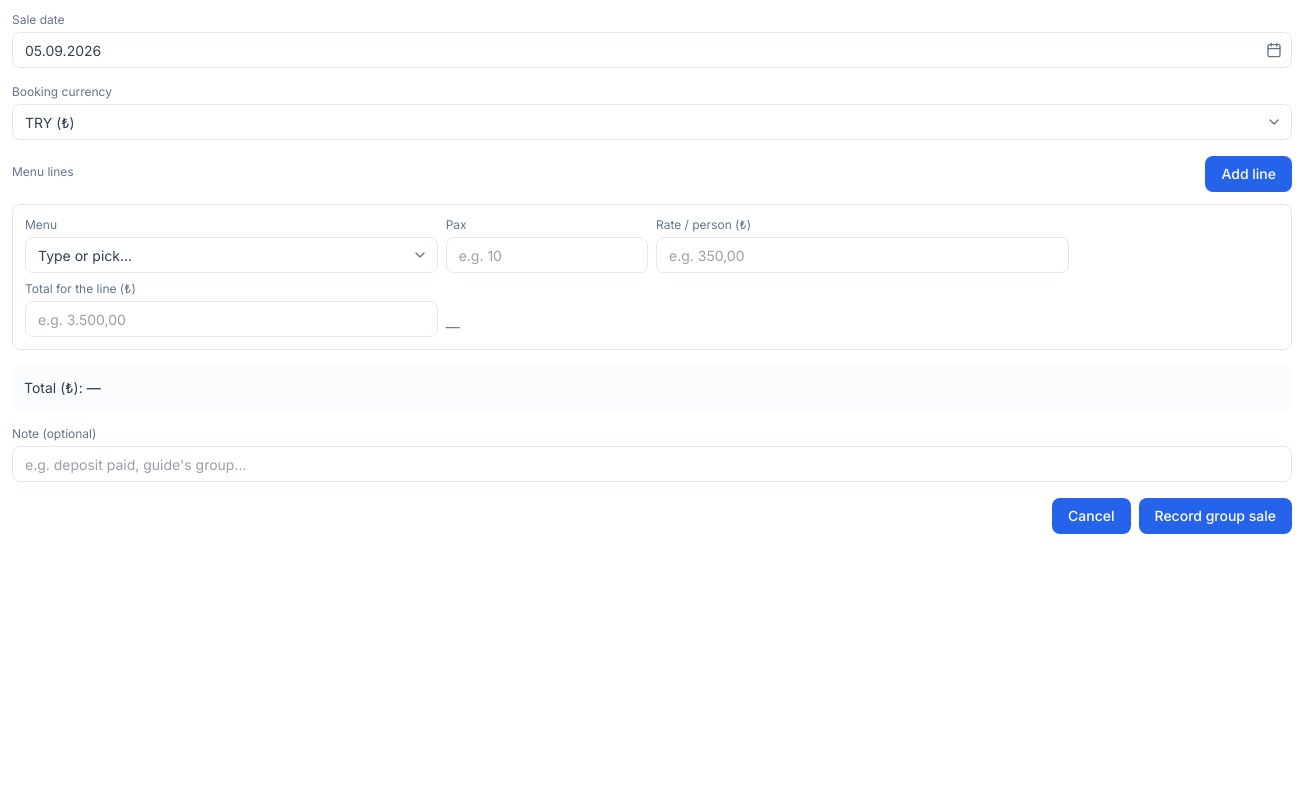
Test: GroupSaleForm rate + footer copy › USD with rate 35,00 and line 10 × 12,00 shows live totals and booked footer
The image size is (1304, 812).
Replace the text in the dropdown labelled "Booking currency" with "USD" at (652, 122), box [12,104,1292,140]
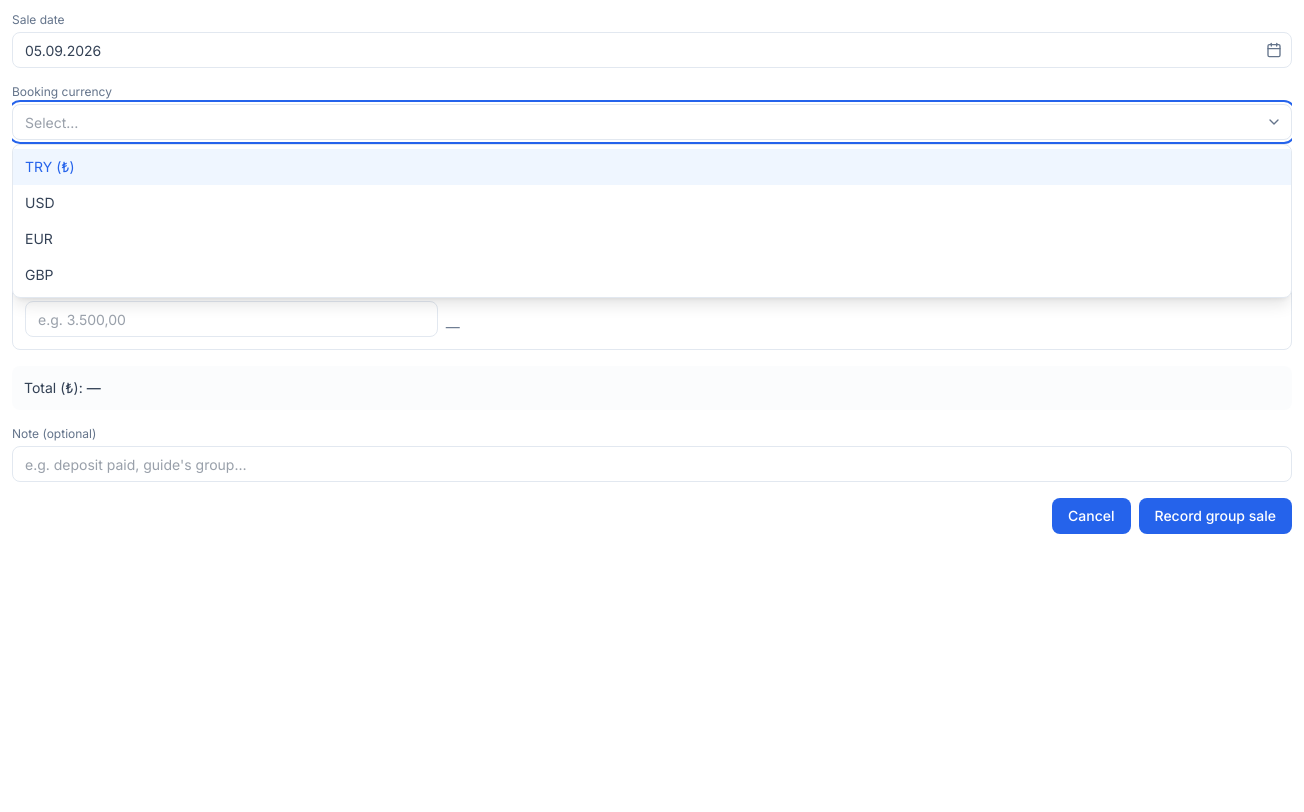
Click the option "USD".
click(40, 202)  # box [13,185,1291,221]
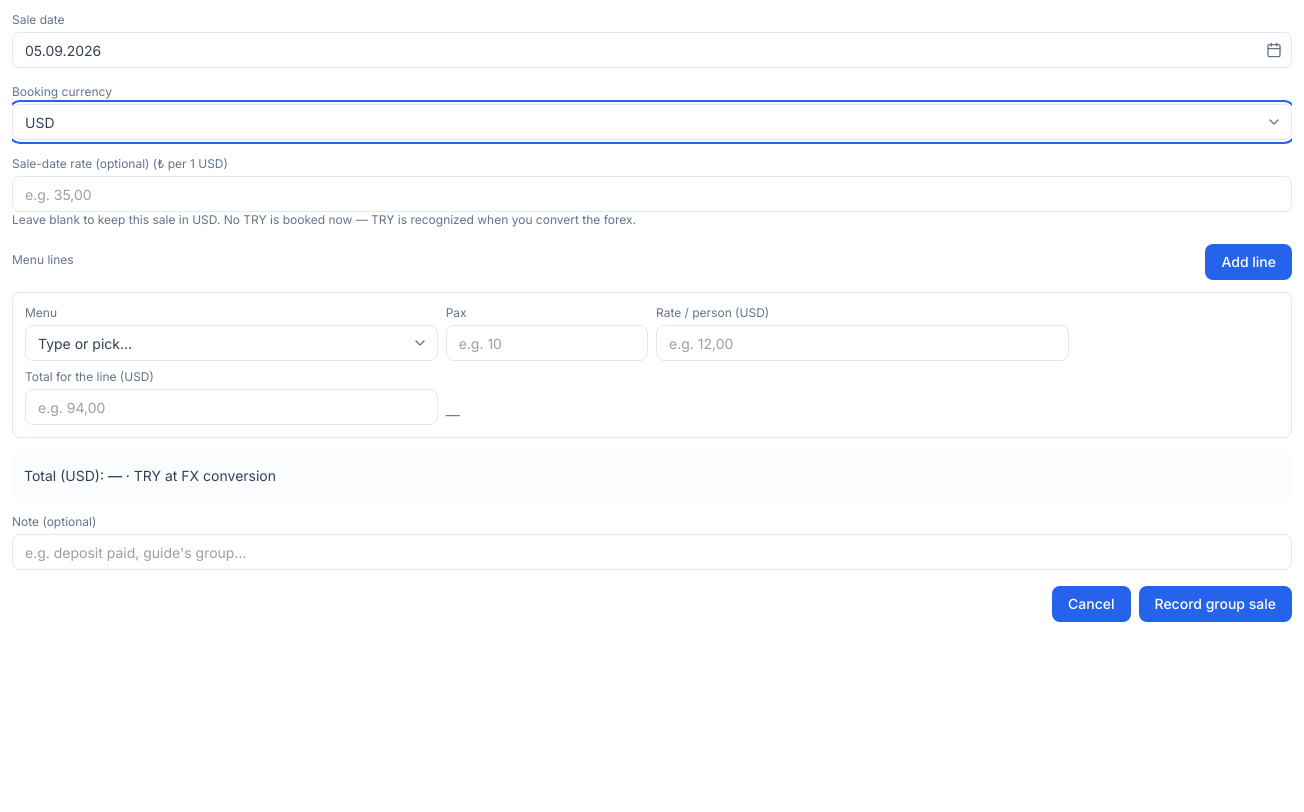
Type "35,00" into the field labelled "Sale-date rate (optional) (₺ per 1 USD)".
click(652, 194); type("35,00")  # box [12,176,1292,212]
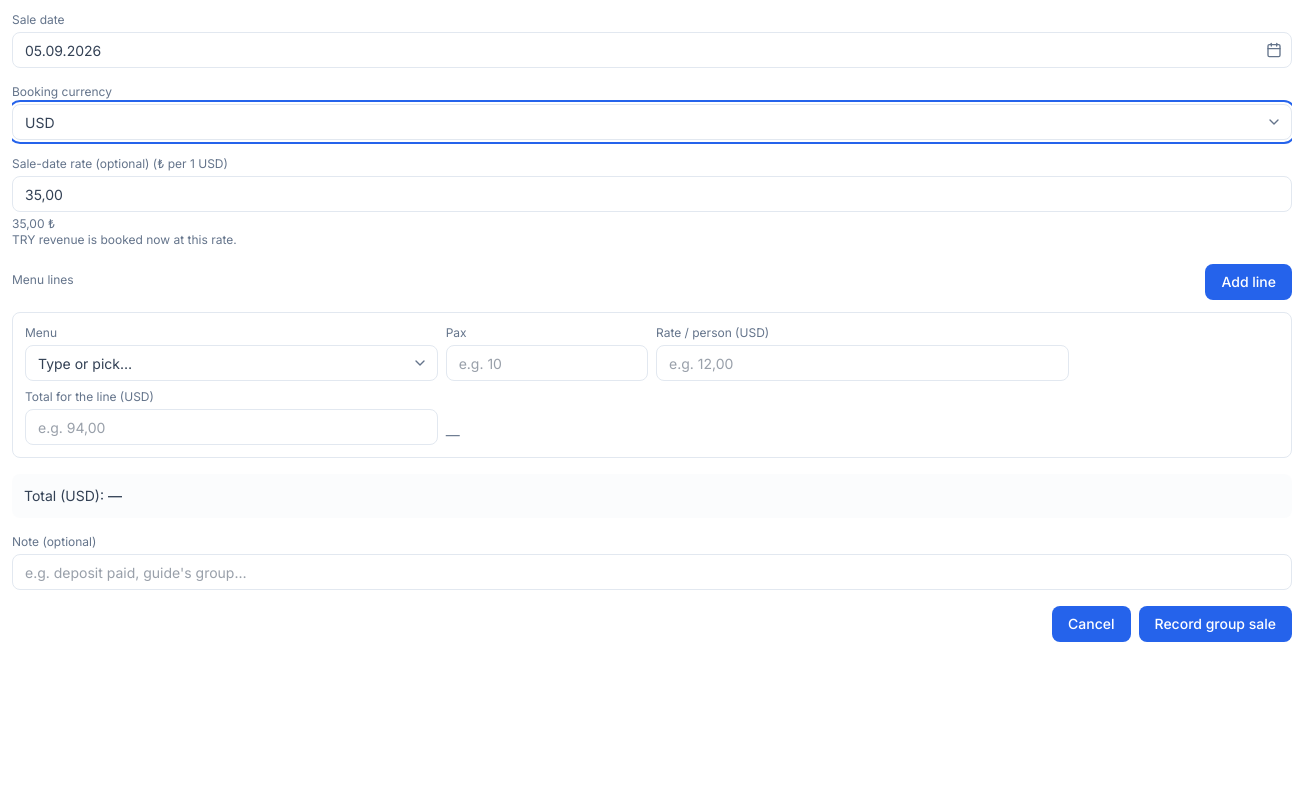
Expected: the text "TRY revenue is booked now at this rate." is shown, [12,232,237,247]
Type "10" into the field with placeholder "e.g. 10".
click(547, 363); type("10")  # box [446,345,648,381]
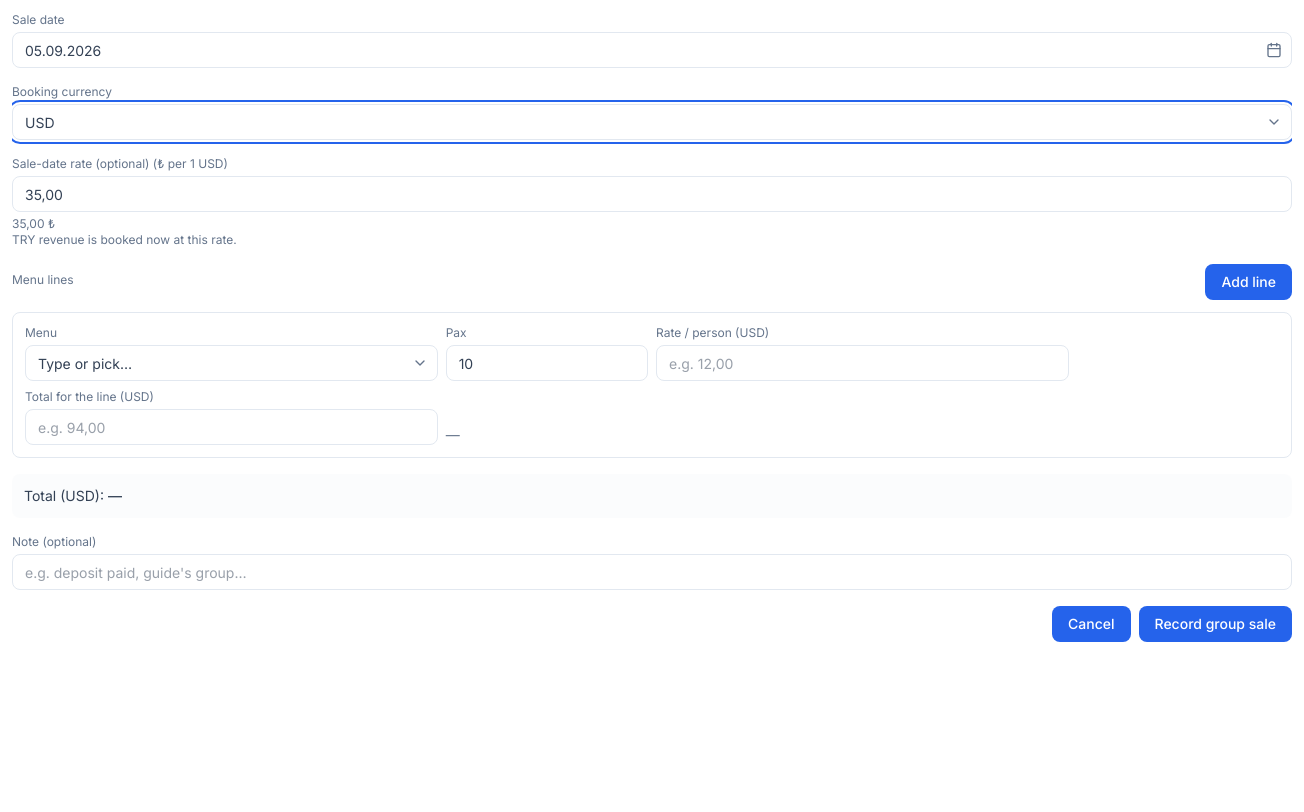
Type "12,00" into the field with placeholder "e.g. 12,00".
click(862, 363); type("12,00")  # box [656,345,1069,381]
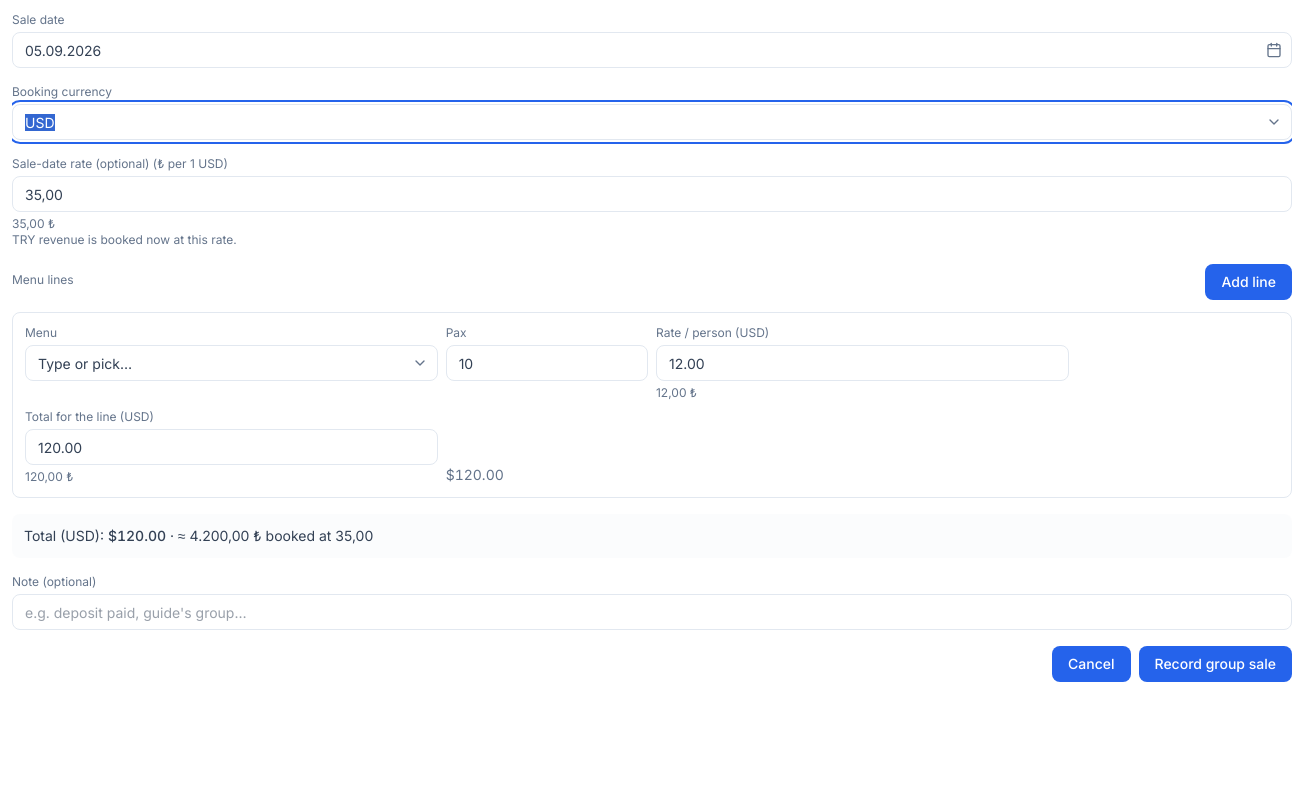
Expected: the text "Total (USD): $120.00 · ≈ 4.200,00 ₺ booked at 35,00" is shown, [24,527,373,544]
